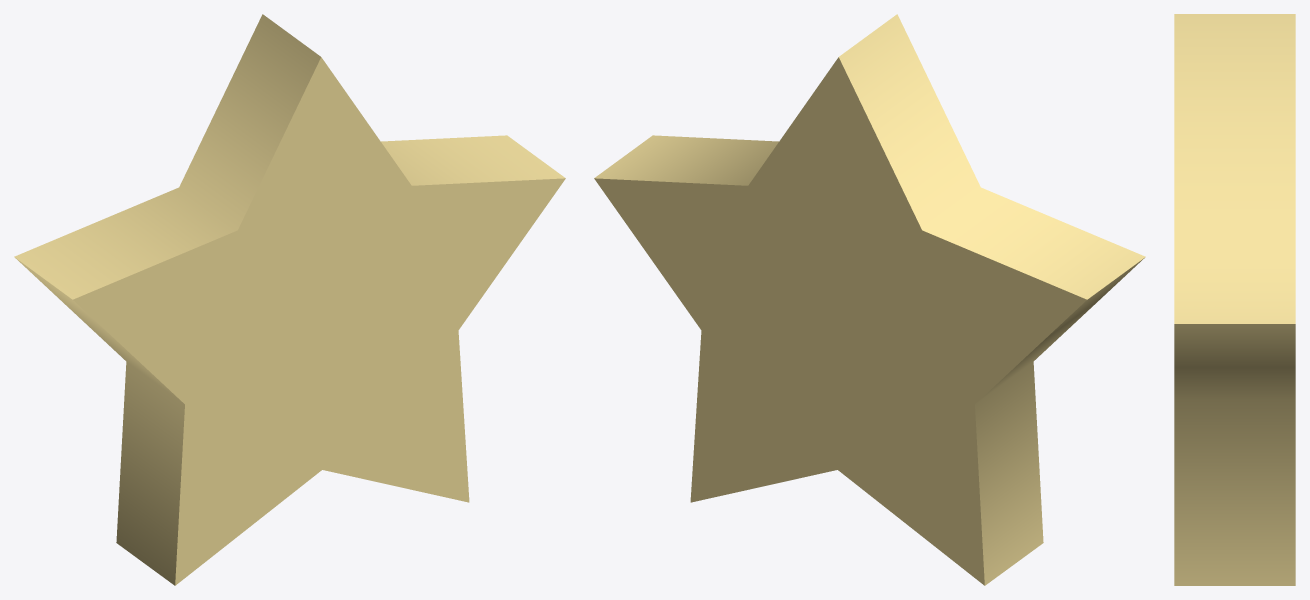
File: Star.fbx
3 renders of one model, left to right at view 1: azimuth 30°, elevation 25°; view 2: azimuth 150°, elevation 25°; view 3: azimuth 270°, elevation 25°, orthographic. The views are drawn at different scales.
Visible parts, largest first — view 1: root; view 2: root; view 3: root.
Boxes of the visible parts, box(x1,y1,x2,y2) form: root: box(14, 14, 565, 585); root: box(594, 14, 1145, 585); root: box(1174, 14, 1295, 585).
Size of the model in its own units: 0.4851 by 0.4636 by 0.1.
1 material, 1 textured.
